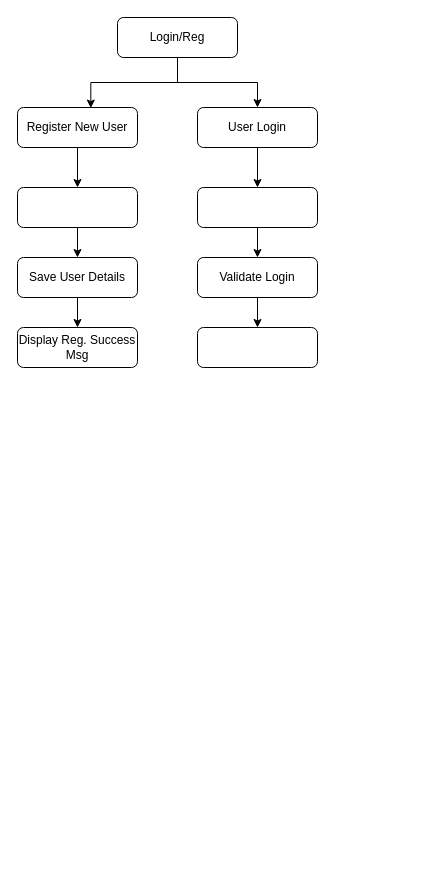
This 425x895 diagram has some shape labels left out. Here are the shapes that lost their labels. From the top down, the centre of each, then its label:
the point at 77,207: Input User Details
the point at 257,207: Input Login Details
the point at 257,347: Login Successful?
